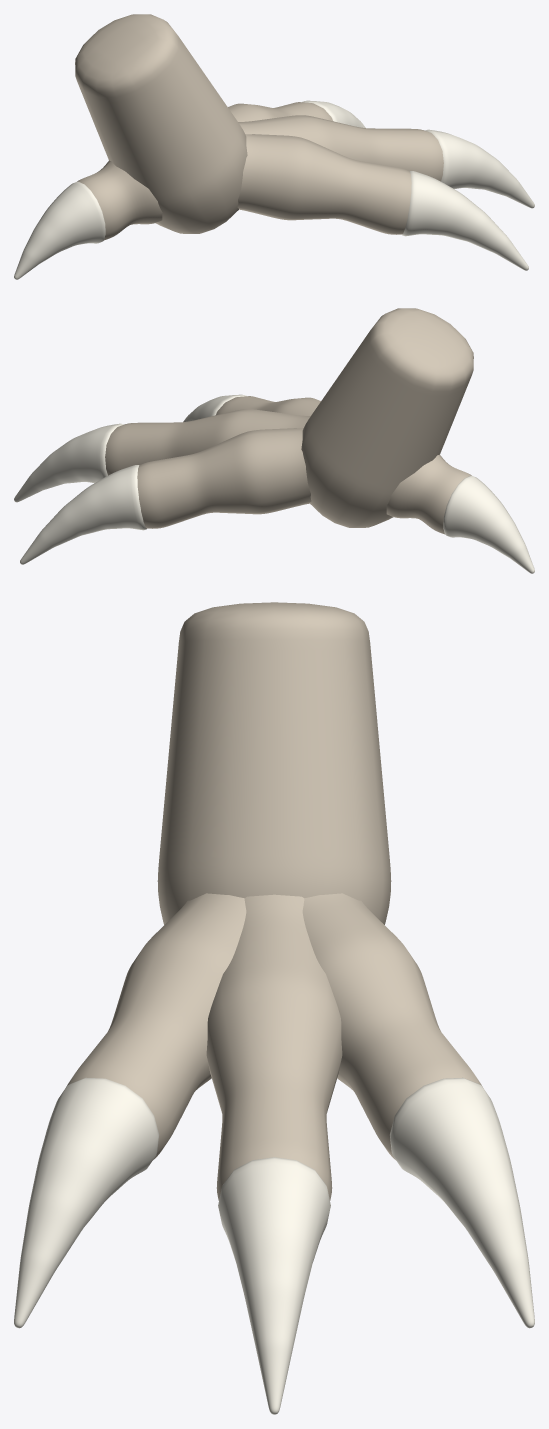
Rendered from creature.talonfoot.glb.
The picture shows the model from 3 angles, top to bottom: view 1: azimuth 30°, elevation 25°; view 2: azimuth 150°, elevation 25°; view 3: azimuth 270°, elevation 25°; orthographic projection. The views are drawn at different scales.
Parts seen in each view (by area): view 1: Skin, Claw; view 2: Skin, Claw; view 3: Skin, Claw.
Part boxes in pixels (x1=…): Skin: x1=75, y1=14, x2=443, y2=240; Claw: x1=14, y1=100, x2=534, y2=279; Skin: x1=105, y1=308, x2=473, y2=534; Claw: x1=14, y1=394, x2=534, y2=573; Skin: x1=66, y1=602, x2=482, y2=1200; Claw: x1=14, y1=1077, x2=534, y2=1414.
Size of the model in its own units: 0.6142 by 0.316 by 0.3072.
